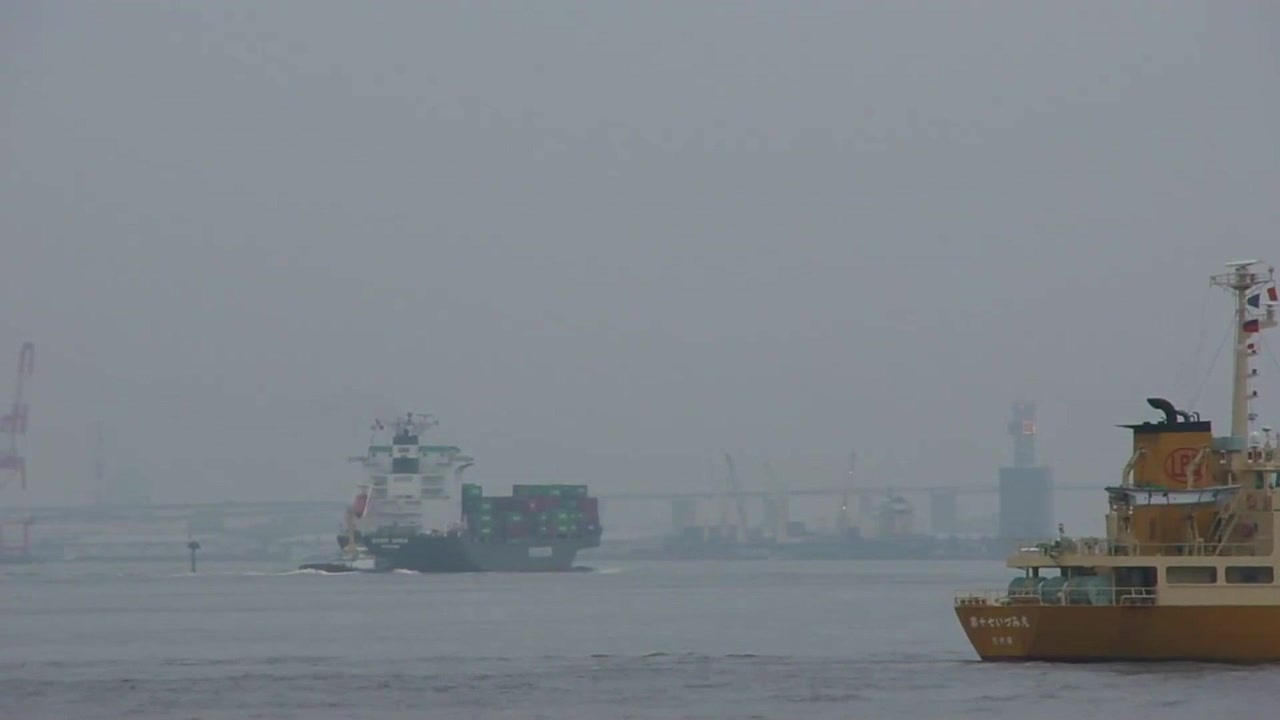boat: (332, 409, 608, 578)
